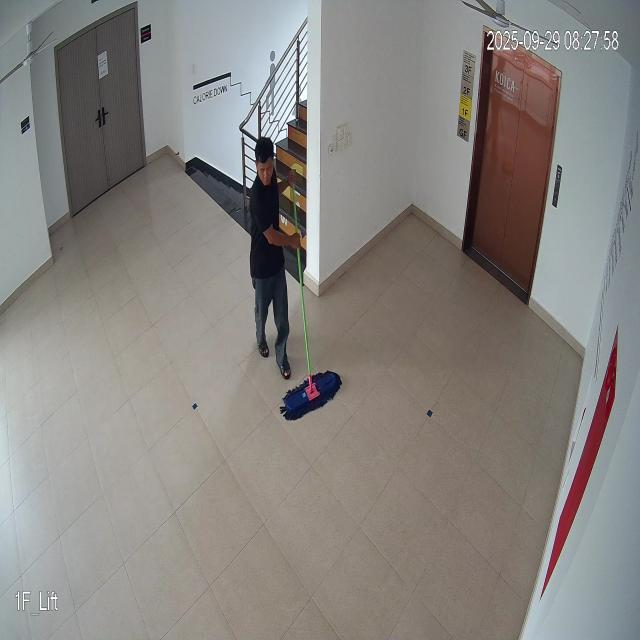face: (250, 134, 279, 191)
